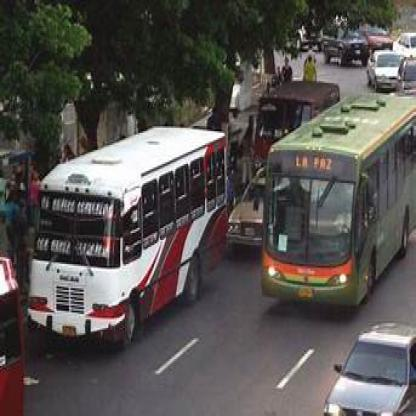bus: (37, 136, 228, 334), (269, 91, 416, 310)
car: (315, 314, 416, 416), (231, 165, 268, 251), (319, 32, 366, 74), (366, 53, 400, 91), (366, 20, 394, 53), (401, 60, 416, 98), (395, 31, 416, 57)
